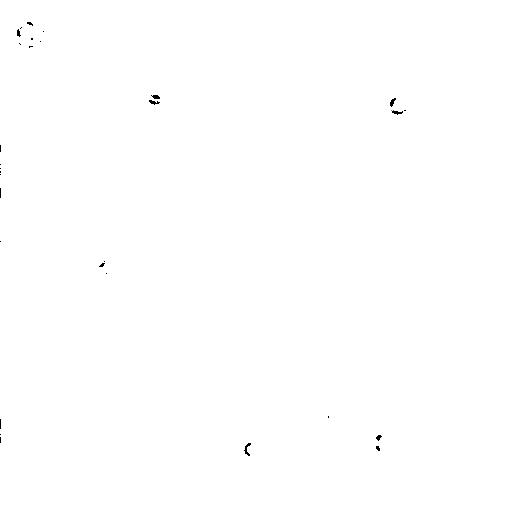micro-algae: (1, 150, 32, 190), (15, 15, 45, 49), (366, 426, 393, 458), (89, 259, 117, 287), (241, 441, 262, 459), (390, 94, 409, 113)
